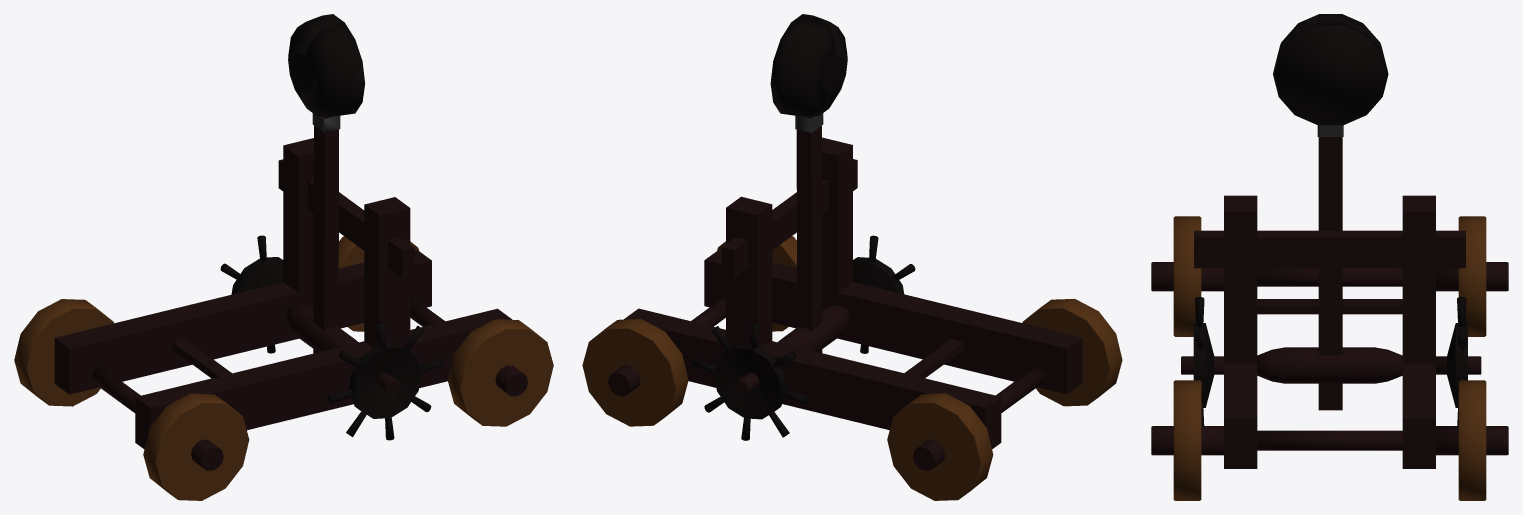
The model's file is trebucheL.glb.
3 views of the same model, side by side, from view 1: azimuth 30°, elevation 25°; view 2: azimuth 150°, elevation 25°; view 3: azimuth 270°, elevation 25° (orthographic). The views are drawn at different scales.
Parts seen in each view (by area): view 1: trebuche-left-body-Visual, trebuche-left-Visual; view 2: trebuche-left-body-Visual, trebuche-left-Visual; view 3: trebuche-left-body-Visual, trebuche-left-Visual.
Part boxes in pixels (x1=…): trebuche-left-body-Visual: x1=14, y1=138, x2=553, y2=500; trebuche-left-Visual: x1=220, y1=14, x2=442, y2=440; trebuche-left-body-Visual: x1=582, y1=137, x2=1122, y2=500; trebuche-left-Visual: x1=692, y1=14, x2=915, y2=440; trebuche-left-body-Visual: x1=1151, y1=195, x2=1508, y2=500; trebuche-left-Visual: x1=1193, y1=14, x2=1467, y2=425.
Size of what is drawn, in the model's own units: 5.56 by 5.06 by 3.9.
